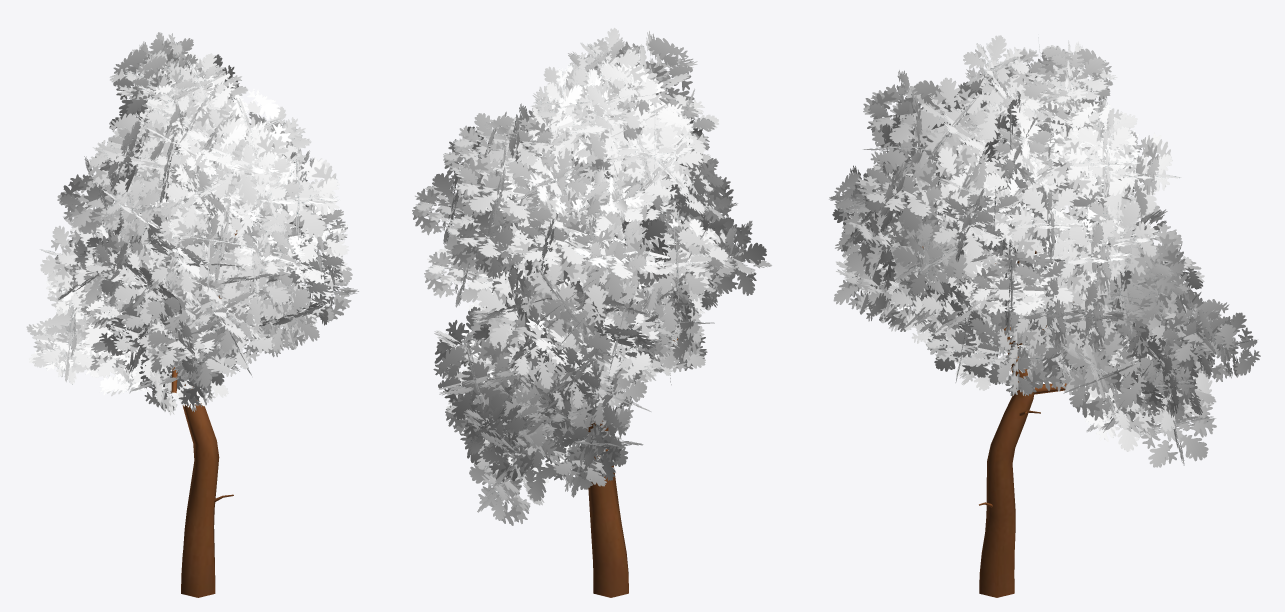
File: STOak2.glb
3 views of the same model, side by side, from view 1: azimuth 30°, elevation 25°; view 2: azimuth 150°, elevation 25°; view 3: azimuth 270°, elevation 25° (orthographic). The views are drawn at different scales.
Parts seen in each view (by area): view 1: Leaf.003; view 2: Leaf.003; view 3: Leaf.003.
Part boxes in pixels (left/top/right/bottom): Leaf.003: left=26, top=32, right=358, bottom=597; Leaf.003: left=412, top=28, right=771, bottom=597; Leaf.003: left=829, top=35, right=1260, bottom=597.
Size of the model in its own units: 10.58 by 20.28 by 14.93.
2 materials, 2 textured.
